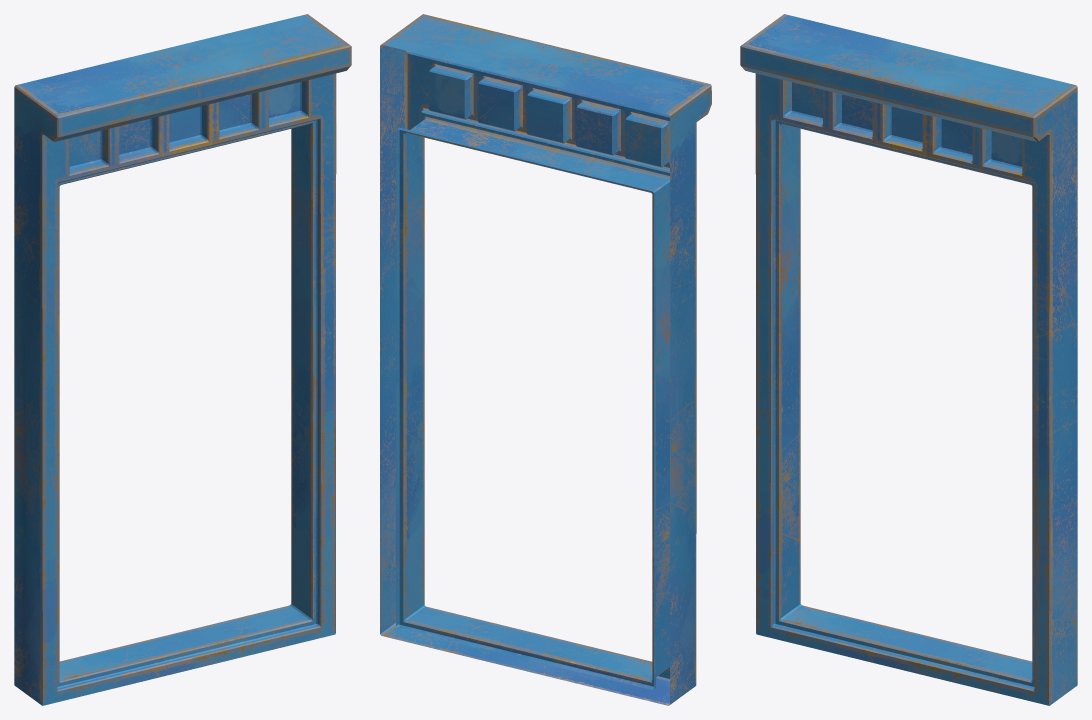
Rendered from Door frame.fbx.
The picture shows the model from 3 angles, left to right: view 1: azimuth 30°, elevation 25°; view 2: azimuth 150°, elevation 25°; view 3: azimuth 330°, elevation 25°; orthographic projection.
Visible parts, largest first — view 1: Door frame; view 2: Door frame; view 3: Door frame.
Part boxes in pixels (bbox=[...]): Door frame: bbox=[14, 14, 351, 705]; Door frame: bbox=[380, 14, 711, 705]; Door frame: bbox=[740, 14, 1077, 705].
Size of the model in its own units: 120 by 234 by 30.51.
